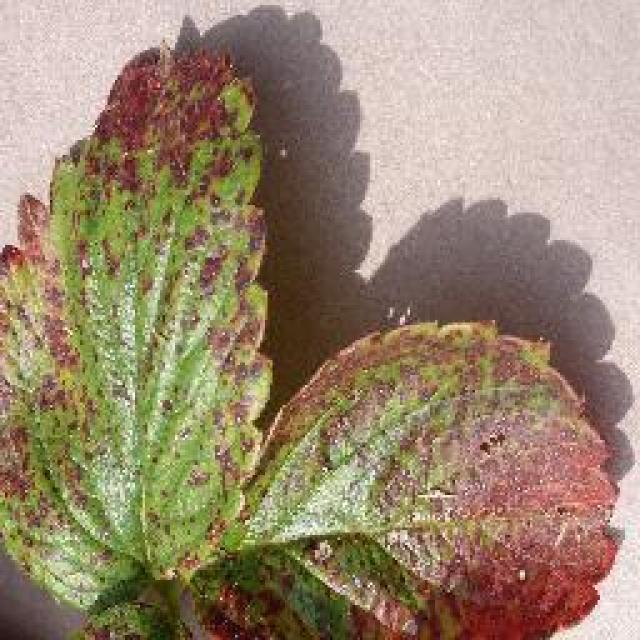Strawberry leaf scorch: (87, 135, 555, 615)
